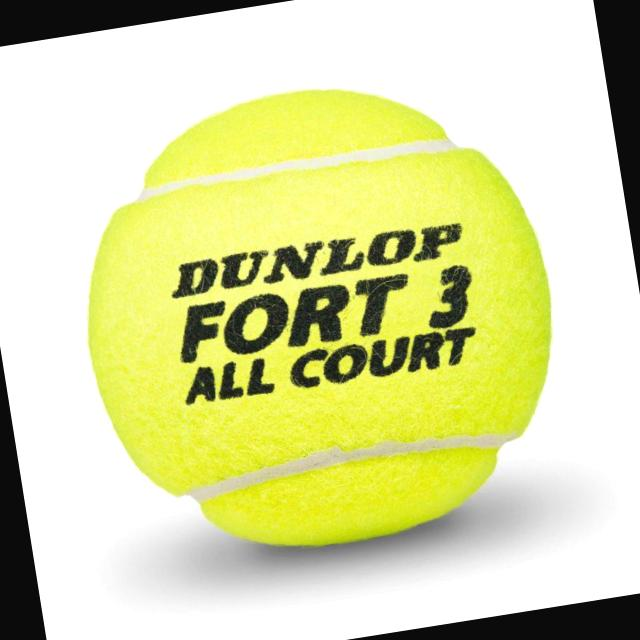ball: (42, 46, 596, 590)
